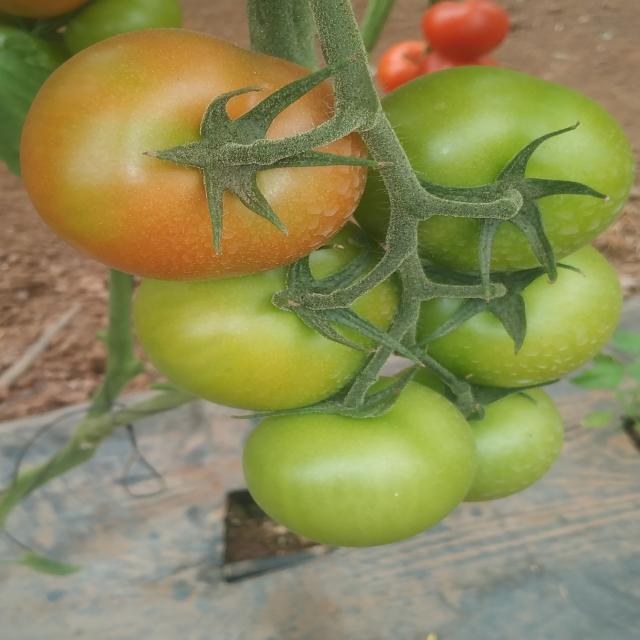Ripe Tomato: (26, 34, 361, 269), (374, 42, 507, 82), (418, 5, 514, 52), (9, 0, 85, 14)
Unripe Tomato: (383, 85, 621, 270), (252, 398, 472, 542), (122, 274, 384, 393), (412, 277, 610, 384), (461, 389, 573, 487)
